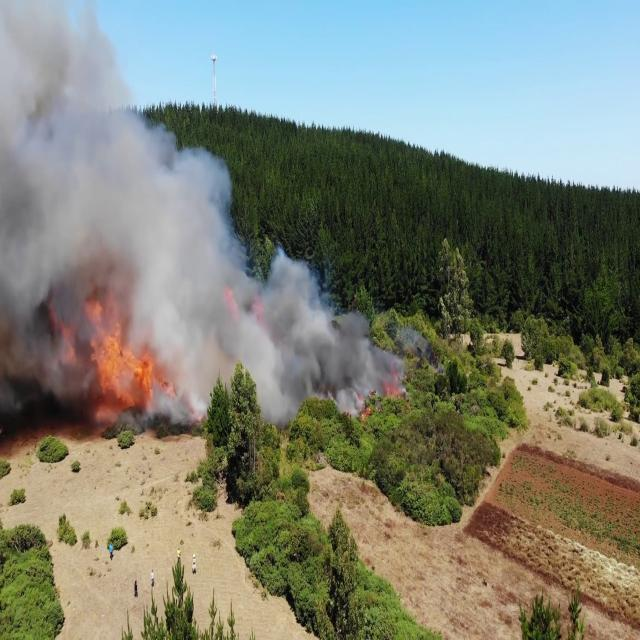Fire: (90, 294, 142, 408)
Smoke: (0, 4, 205, 448), (202, 232, 394, 413)
